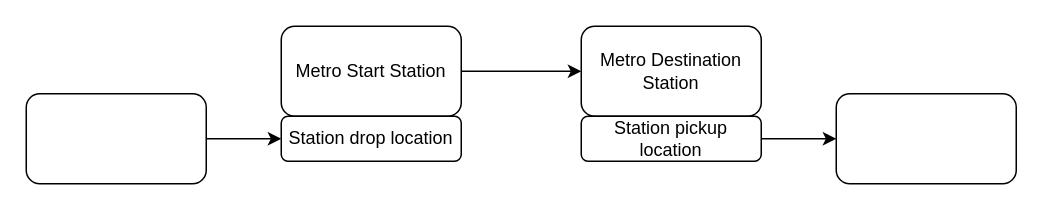
This 1043x210 diagram has some shape labels left out. Here are the shapes that lost their labels. From the top down, the box of each, then its label:
(25, 92, 206, 184): Pickup location
(835, 92, 1016, 184): Drop Location
